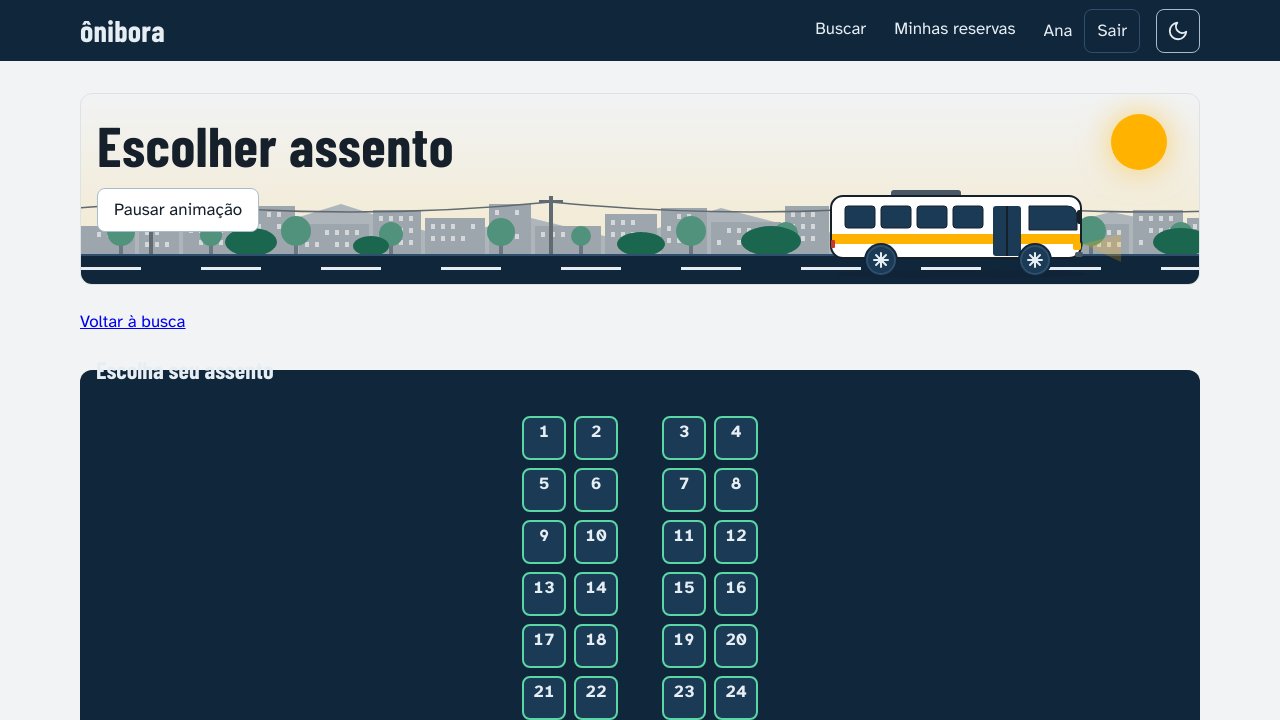
it: TripPage: reservar o assento › sessão vencida (401 e a renovação também falha): leva ao Entrar e guarda a página
Click the radio button named "Assento 7, livre" at x=684, y=490, box left=662, top=468, right=706, bottom=512
(page scrolled)
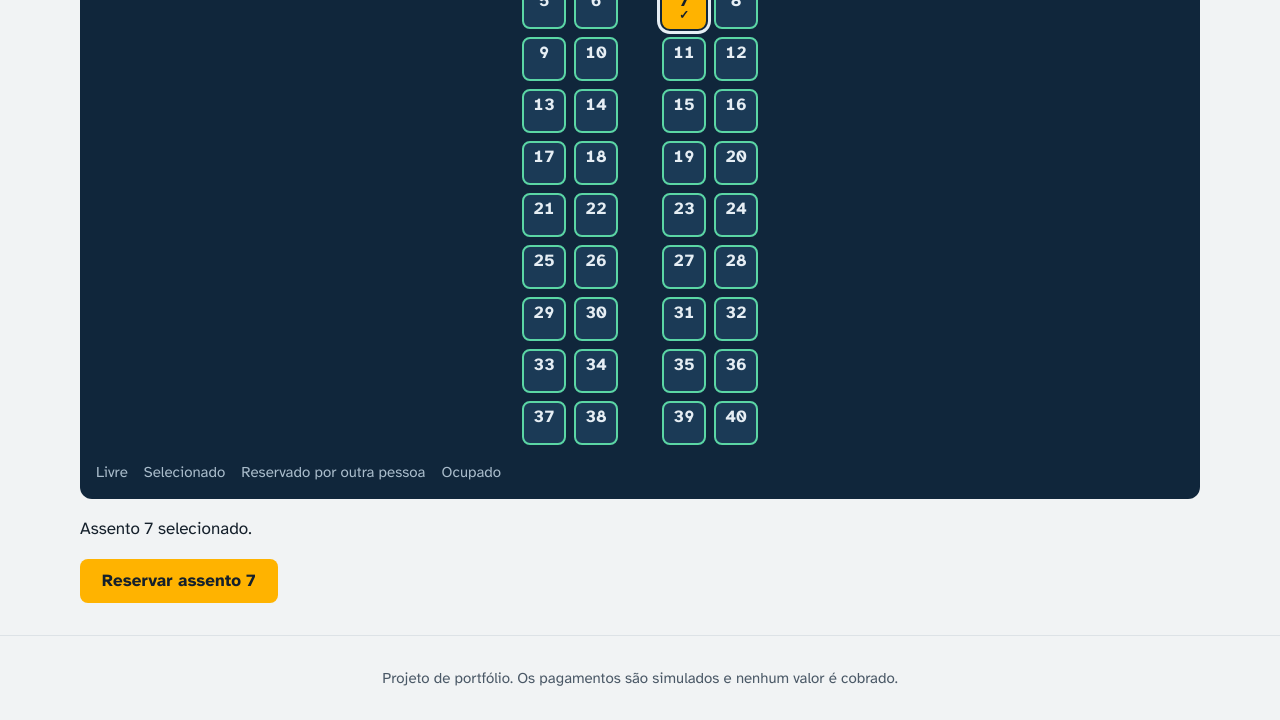
Click the button "Reservar assento 7" at x=179, y=580, box left=80, top=558, right=278, bottom=602
(page scrolled)
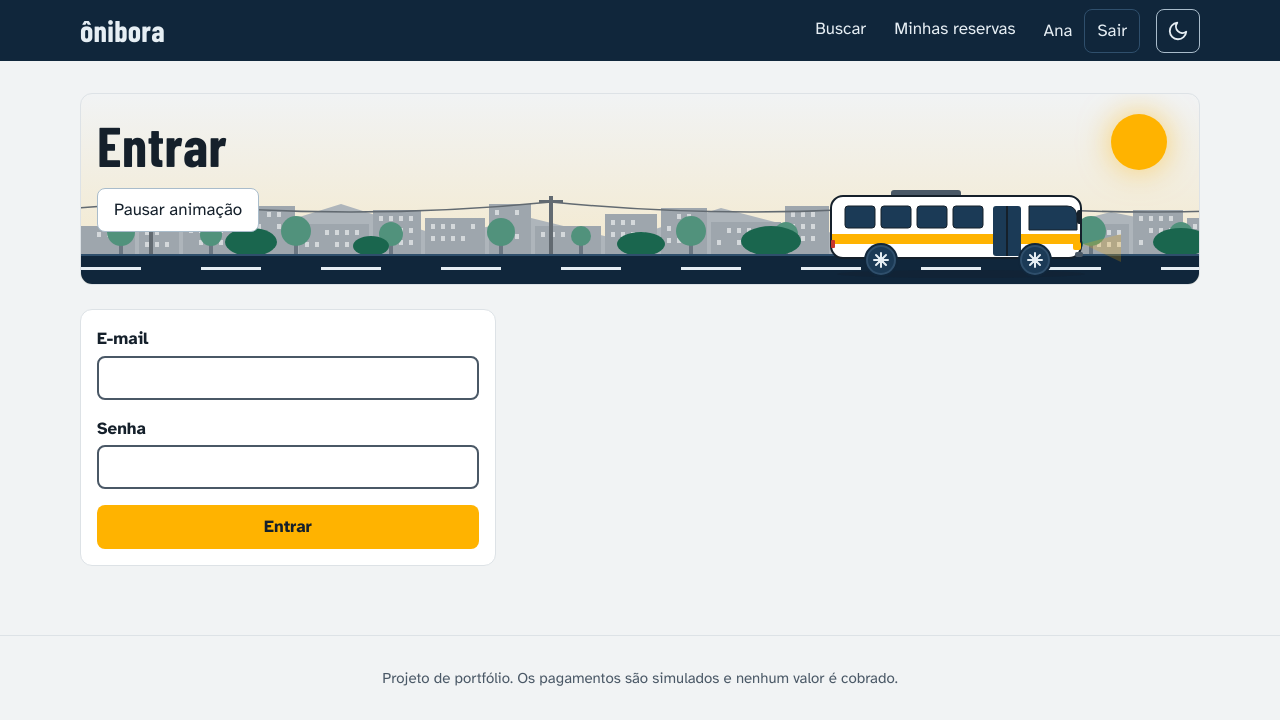
Result: the heading "Entrar" is shown at left=97, top=111, right=227, bottom=178
